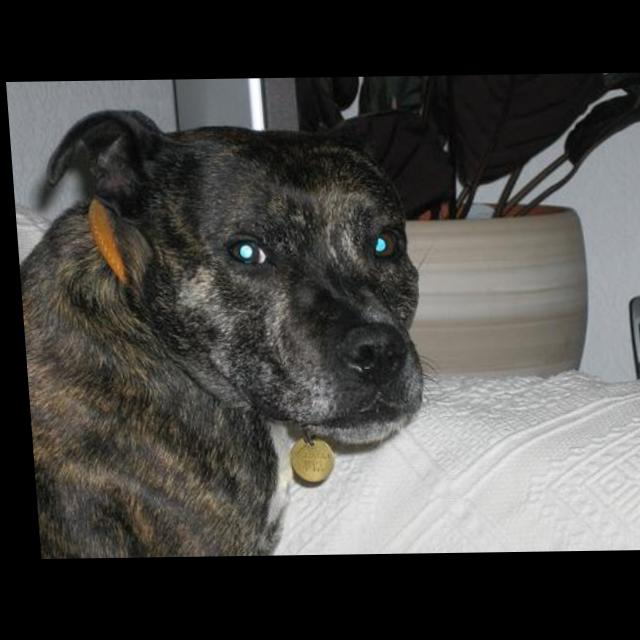staffford: (8, 105, 441, 560)
